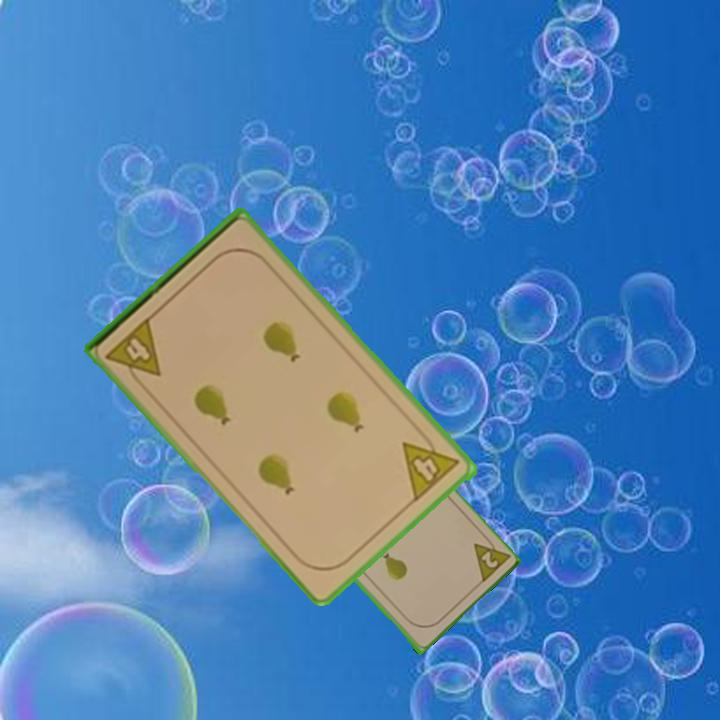2p: (469, 530, 512, 587)
4p: (399, 426, 463, 505), (102, 313, 165, 392)
